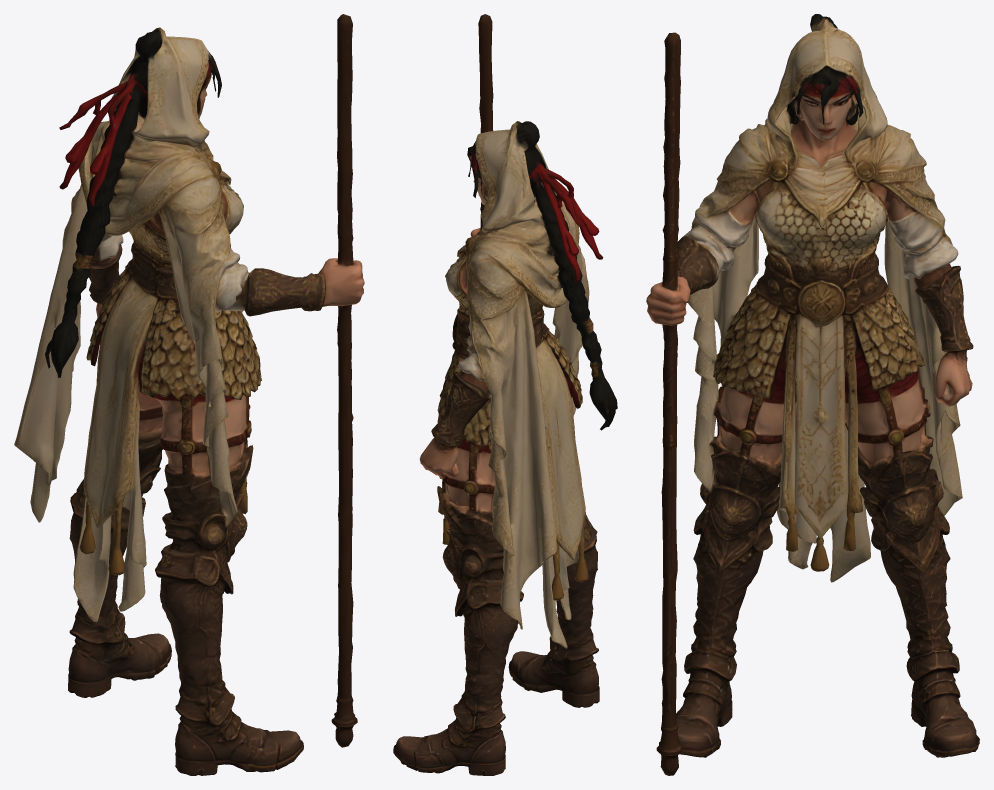
Rendered from vanguardalt-MirageVeil-tripo.glb.
The picture shows the model from 3 angles, left to right: view 1: azimuth 30°, elevation 25°; view 2: azimuth 150°, elevation 25°; view 3: azimuth 270°, elevation 25°; orthographic projection. The views are drawn at different scales.
Visible parts, largest first — view 1: tripo_node_75d96959-2d20-4192-b8f3-c2eedad9afe5; view 2: tripo_node_75d96959-2d20-4192-b8f3-c2eedad9afe5; view 3: tripo_node_75d96959-2d20-4192-b8f3-c2eedad9afe5.
Part boxes in pixels (x1,y1,x2,y2): tripo_node_75d96959-2d20-4192-b8f3-c2eedad9afe5: (14, 14, 364, 775); tripo_node_75d96959-2d20-4192-b8f3-c2eedad9afe5: (393, 14, 617, 775); tripo_node_75d96959-2d20-4192-b8f3-c2eedad9afe5: (646, 14, 979, 775).
Bounding box in the file's own units: 0.3355 × 1 × 0.4026.
Materials: 1 (1 with a texture image).
